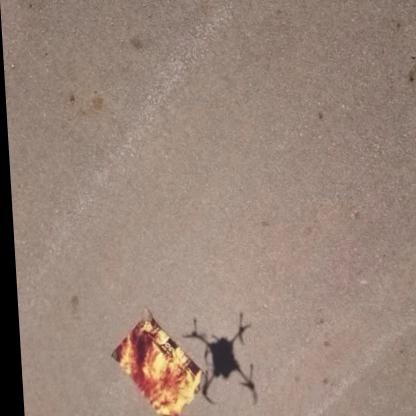fire-poster: (104, 307, 202, 416)
